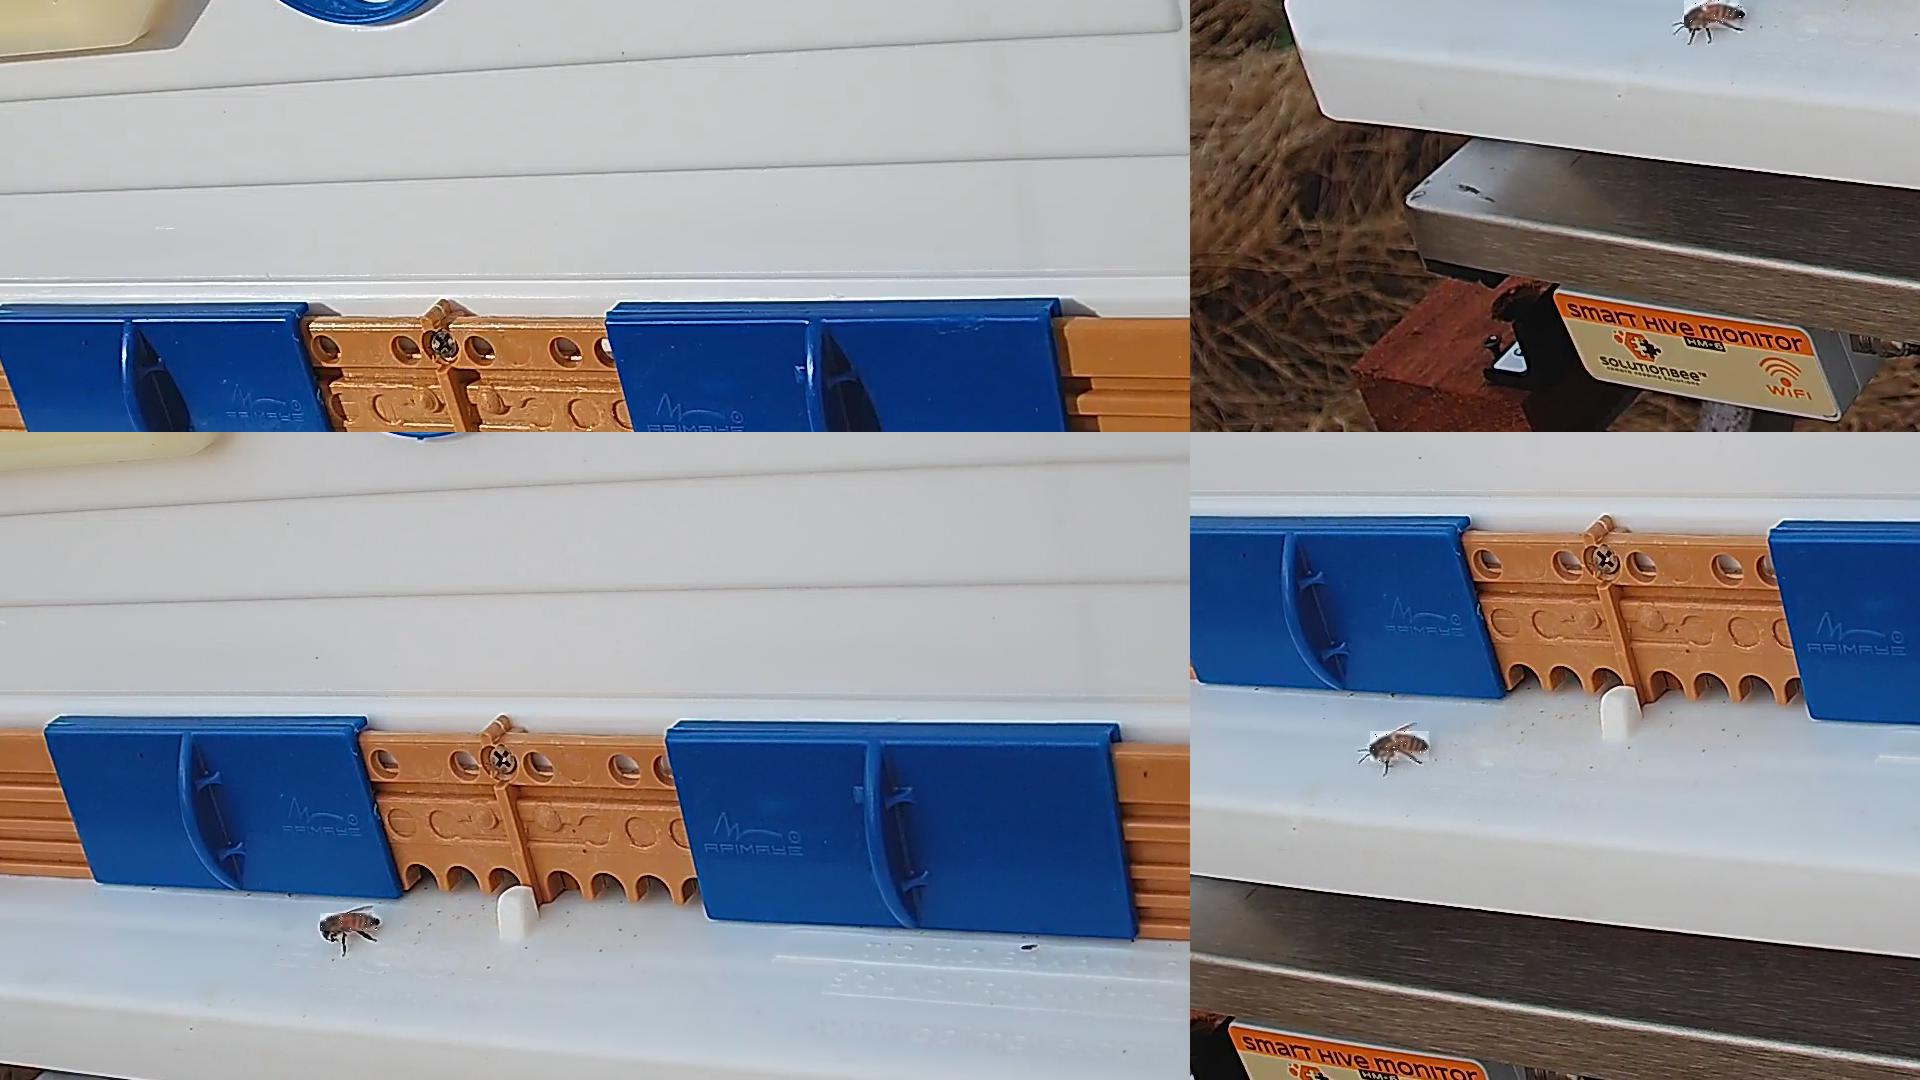bee: (1370, 731, 1431, 762), (1685, 0, 1743, 29), (320, 913, 378, 932)
